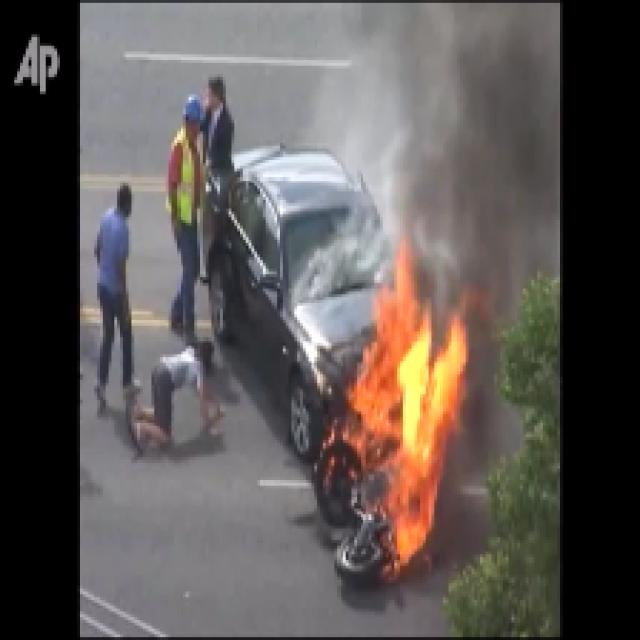fire: (356, 320, 448, 542)
smoke: (415, 19, 544, 273)
